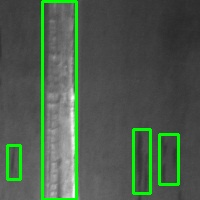inclusion: (133, 129, 150, 193), (159, 134, 178, 184), (7, 145, 20, 179)
scratches: (42, 1, 76, 199)
